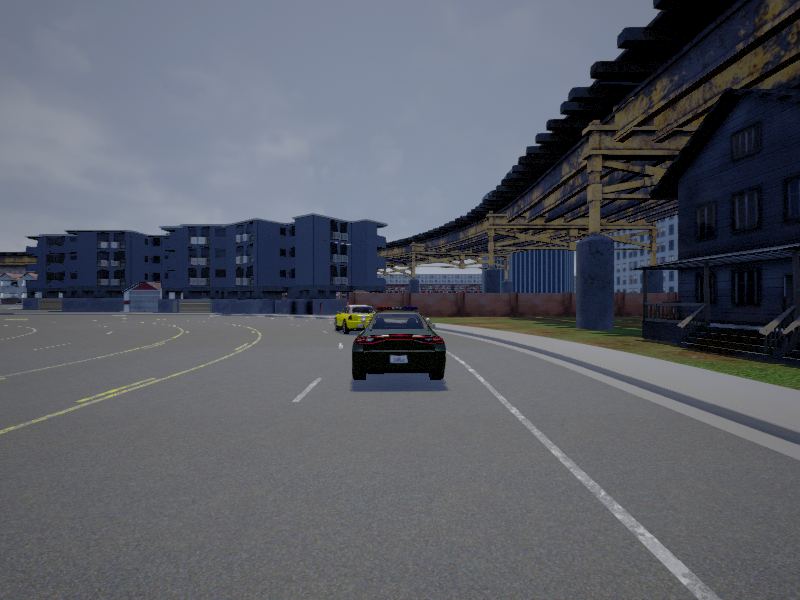Benign: (354, 308, 446, 382), (333, 304, 381, 334)
